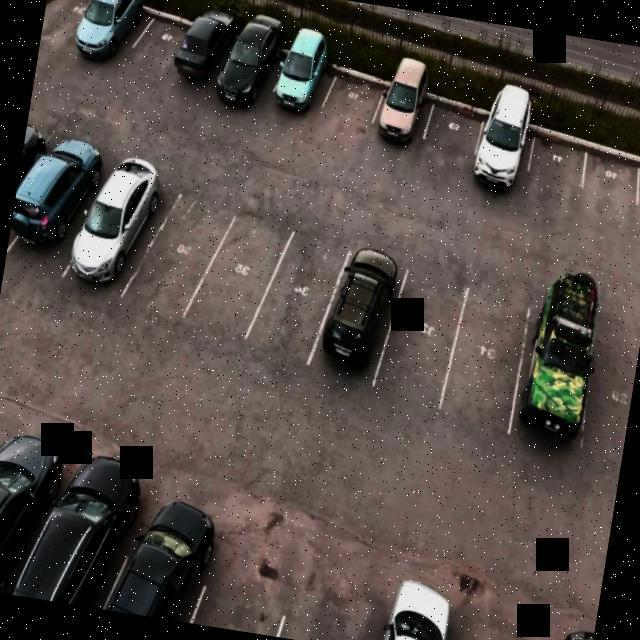car: (64, 162, 176, 322), (502, 302, 610, 465), (302, 238, 416, 388), (24, 482, 134, 612), (18, 140, 115, 284), (102, 518, 207, 624), (457, 104, 547, 210), (260, 31, 344, 136), (167, 4, 250, 109), (210, 22, 292, 127), (357, 68, 439, 166), (62, 0, 157, 83), (0, 456, 53, 598), (6, 134, 58, 268)
free: (124, 180, 238, 332), (178, 205, 294, 354), (428, 292, 541, 436), (245, 234, 355, 374), (367, 274, 473, 414), (572, 336, 640, 467), (184, 554, 288, 637), (313, 56, 394, 156), (416, 93, 494, 181), (121, 7, 201, 88), (266, 578, 365, 640), (518, 133, 595, 211), (578, 149, 640, 218), (38, 0, 101, 61), (623, 168, 640, 241)
